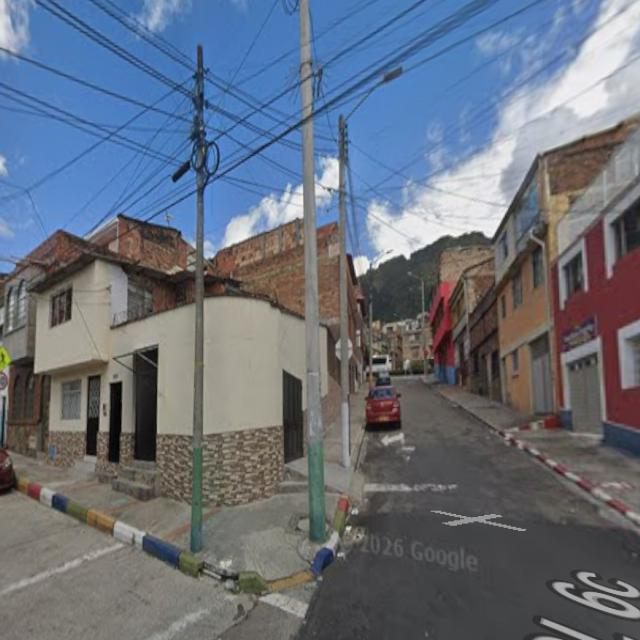fachada: (30, 226, 194, 501), (4, 216, 192, 455), (494, 118, 637, 414), (552, 130, 639, 455), (430, 246, 492, 384), (450, 252, 494, 386), (469, 283, 501, 400), (317, 224, 340, 384), (383, 322, 403, 370), (403, 318, 422, 361), (0, 363, 9, 446)
poste: (299, 0, 325, 541), (191, 45, 206, 552), (339, 115, 350, 468), (422, 279, 426, 376), (369, 296, 372, 387)
